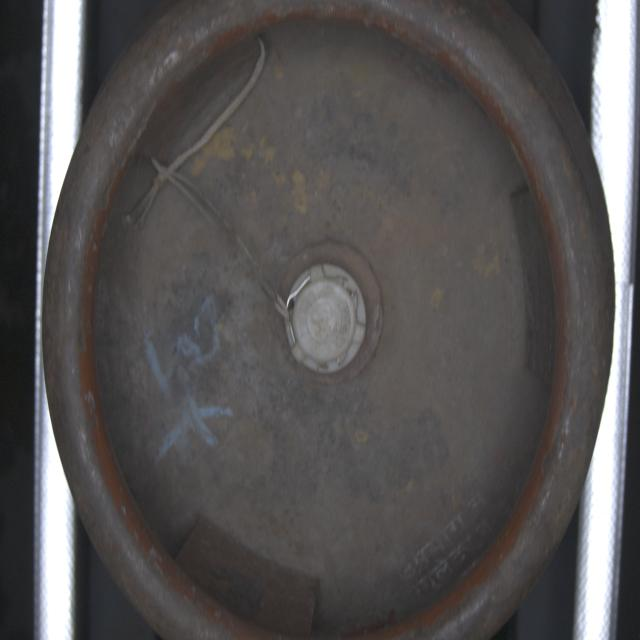Cap: (283, 257, 372, 380)
